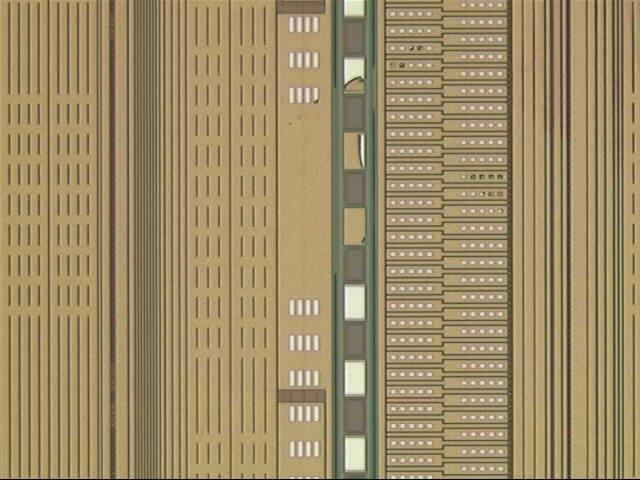BLOCK ETCH: (282, 40, 512, 252)
